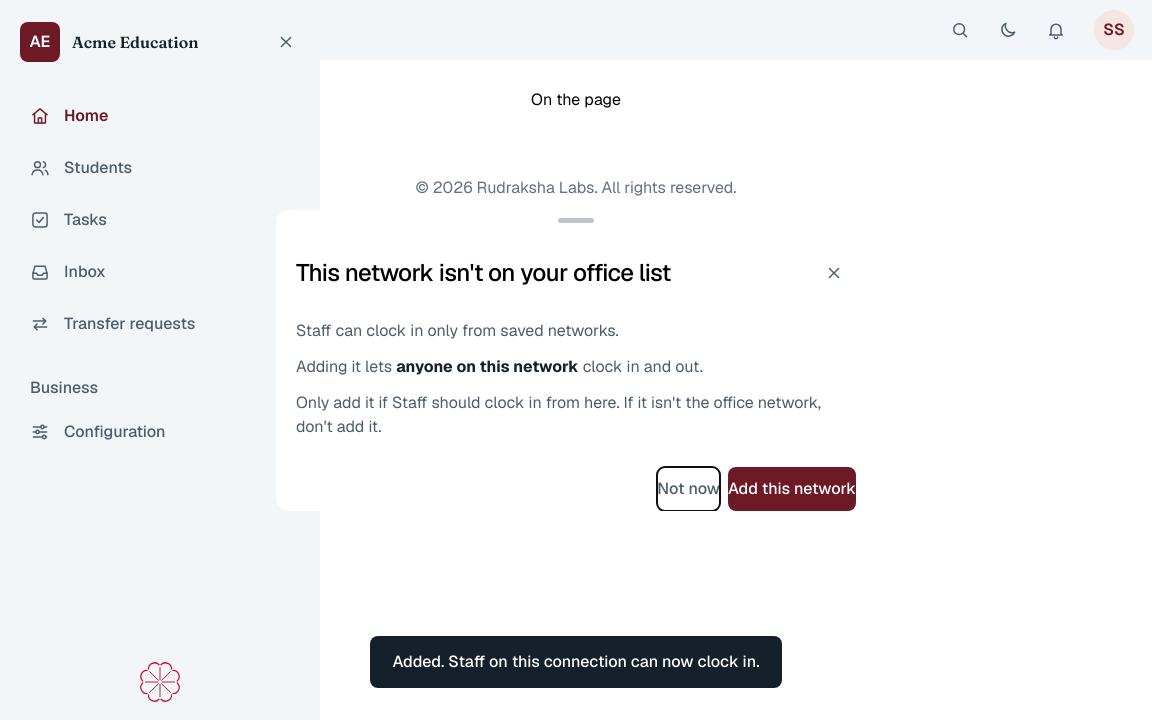
the Admin's office-network dialog (first live fixes, ticket 03) › Add this network › shows a refusal in the dialog and changes nothing: {"detail":"An office can have at most 20 networks."}
This screenshot has width=1152, height=720.
Expected: the element showing "On the page © 2026 Rudraksha Labs. All rights reserved." is shown, [0,60,1151,232]
Click the button "Add this network" at (792, 488), box [728,466,856,510]
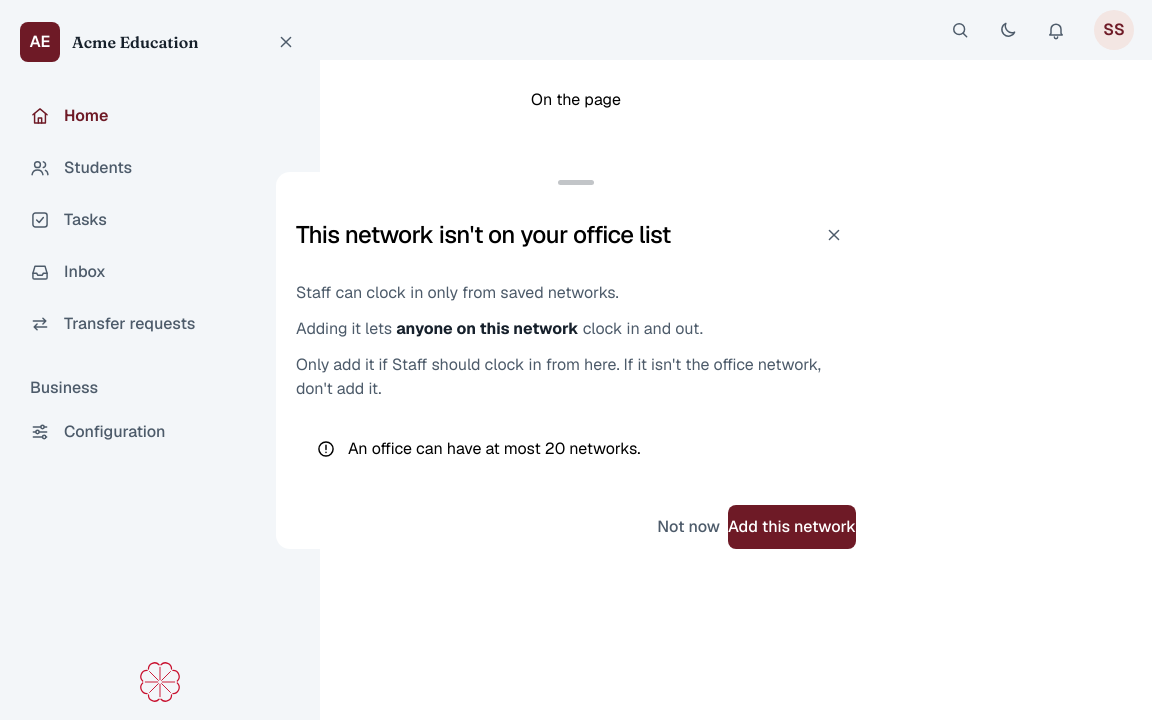
Expected: the dialog "This network isn't on your office list" is shown, [276,172,876,548]
Expected: the text "An office can have at most 20 networks." is shown, [348,436,640,460]
